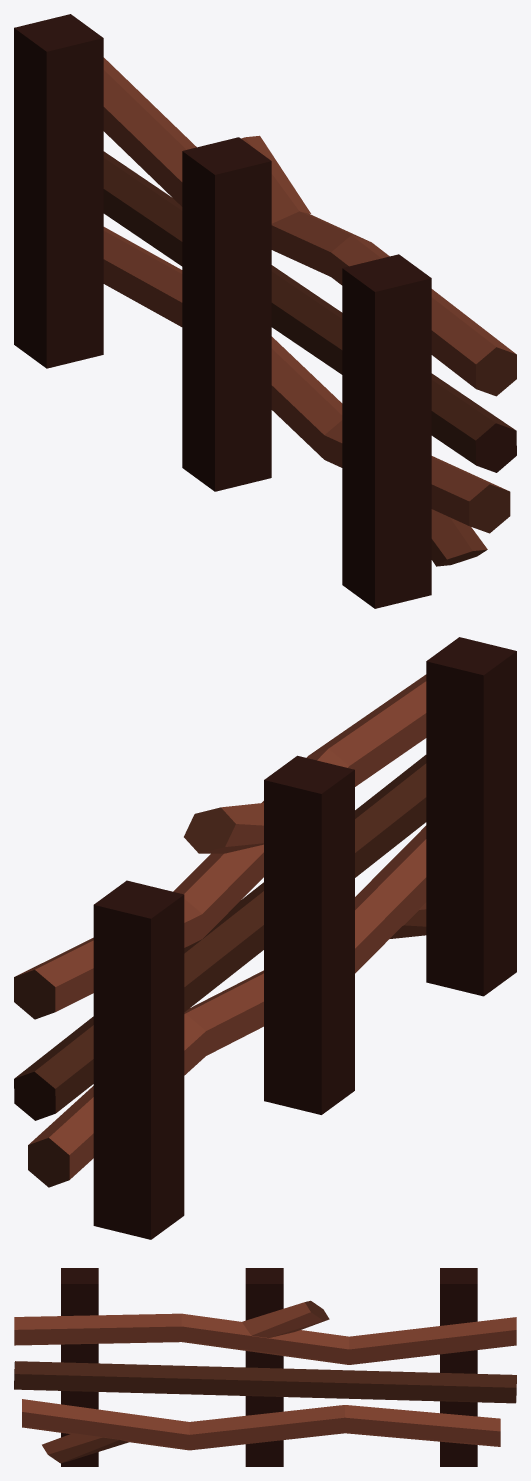
The model's file is SM_Barriers_10.fbx.
The picture shows the model from 3 angles, top to bottom: view 1: azimuth 30°, elevation 25°; view 2: azimuth 150°, elevation 25°; view 3: azimuth 270°, elevation 25°; orthographic projection. The views are drawn at different scales.
Visible parts, largest first — view 1: SM_Barriers_10; view 2: SM_Barriers_10; view 3: SM_Barriers_10.
Boxes of the visible parts, box(x1,y1,x2,y2) form: SM_Barriers_10: box(14, 14, 516, 608); SM_Barriers_10: box(14, 637, 516, 1239); SM_Barriers_10: box(14, 1268, 516, 1466).
Bounding box in the file's own units: 26.83 × 80 × 199.
